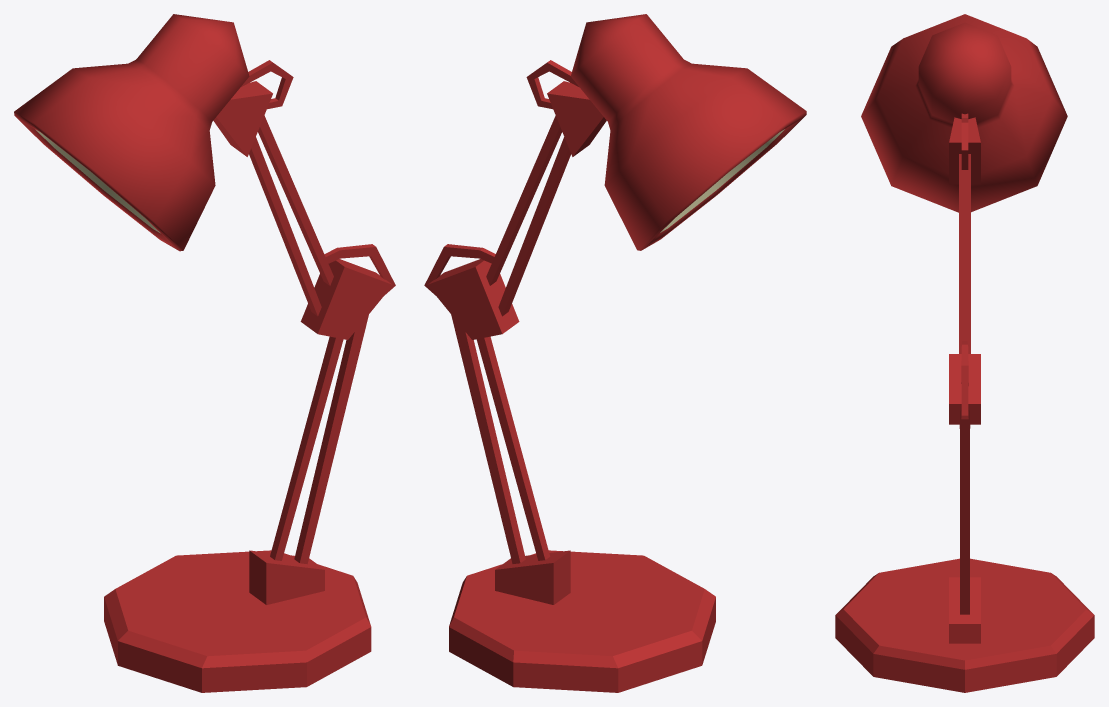
The model's file is table lamp.fbx.
3 renders of one model, left to right at view 1: azimuth 30°, elevation 25°; view 2: azimuth 150°, elevation 25°; view 3: azimuth 270°, elevation 25°, orthographic. The views are drawn at different scales.
Parts seen in each view (by area): view 1: Lamp_Table_Base, Lamp_Table_Head, Lamp_Table_UpperArm, Lamp_Table_LowerArm; view 2: Lamp_Table_Base, Lamp_Table_Head, Lamp_Table_UpperArm, Lamp_Table_LowerArm; view 3: Lamp_Table_Head, Lamp_Table_Base, Lamp_Table_UpperArm, Lamp_Table_LowerArm.
Part boxes in pixels (left/top/right/bottom): Lamp_Table_Base: left=104, top=550, right=371, bottom=692; Lamp_Table_Head: left=14, top=14, right=249, bottom=251; Lamp_Table_UpperArm: left=213, top=60, right=392, bottom=339; Lamp_Table_LowerArm: left=270, top=244, right=395, bottom=564; Lamp_Table_Base: left=449, top=550, right=715, bottom=692; Lamp_Table_Head: left=570, top=14, right=806, bottom=250; Lamp_Table_UpperArm: left=427, top=60, right=606, bottom=339; Lamp_Table_LowerArm: left=424, top=244, right=550, bottom=563; Lamp_Table_Head: left=861, top=14, right=1067, bottom=212; Lamp_Table_Base: left=835, top=558, right=1094, bottom=692; Lamp_Table_UpperArm: left=949, top=113, right=980, bottom=424; Lamp_Table_LowerArm: left=959, top=341, right=970, bottom=614.
Size of the model in its own units: 29.4 by 49.15 by 19.54.
Materials: 1 (1 with a texture image).
